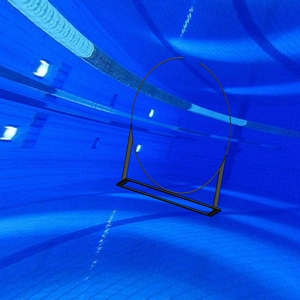circle: (116, 56, 233, 219)
